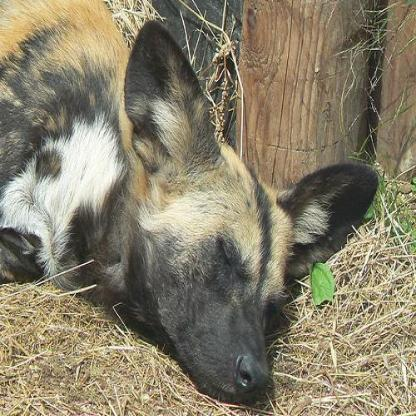African_hunting_dog: (0, 0, 379, 402)
